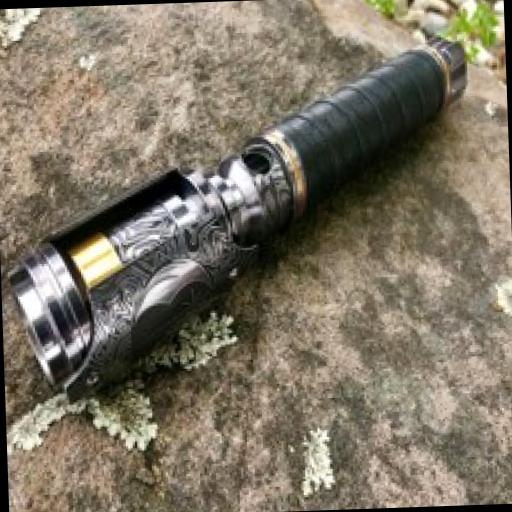lightsaber: (2, 34, 478, 388)
